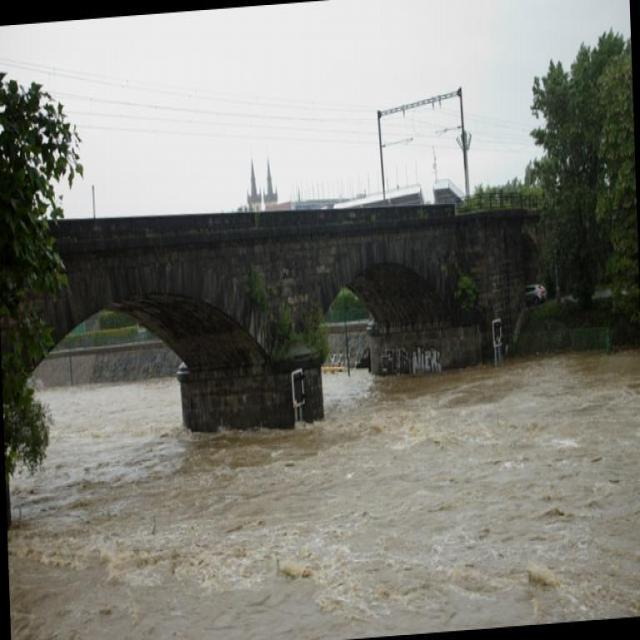flood: (5, 327, 639, 639)
